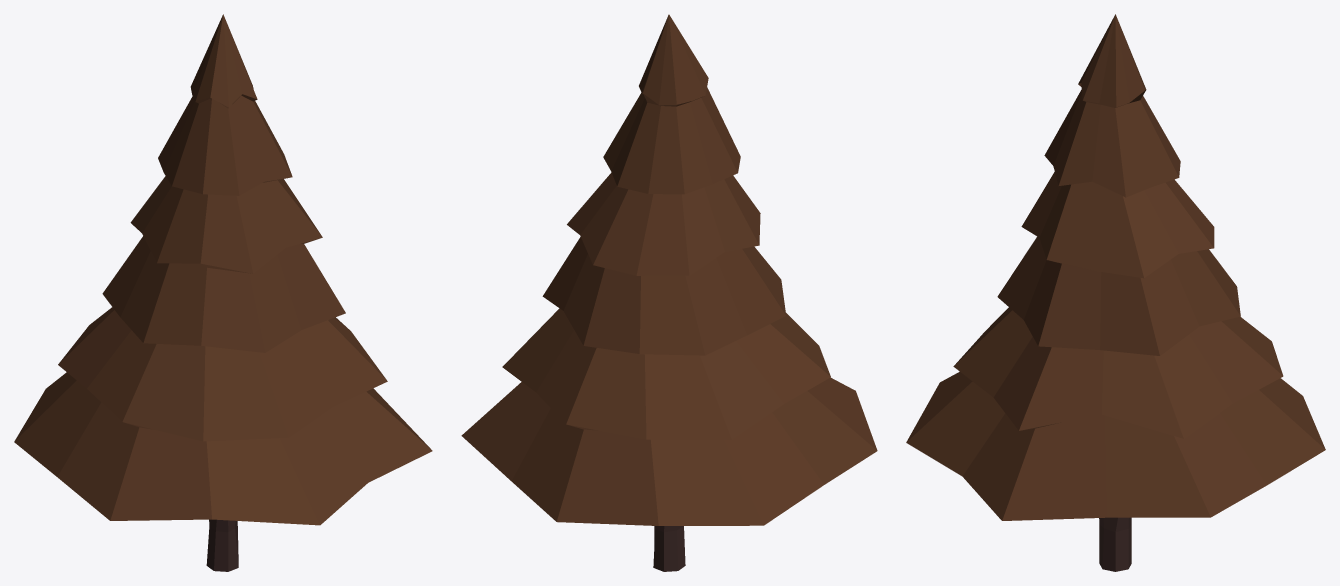
File: SM_Fir_02.fbx
3 renders of one model, left to right at view 1: azimuth 30°, elevation 25°; view 2: azimuth 150°, elevation 25°; view 3: azimuth 270°, elevation 25°, orthographic.
Parts seen in each view (by area): view 1: SM_Fir_02; view 2: SM_Fir_02; view 3: SM_Fir_02.
Part boxes in pixels (x1,y1,x2,y2): SM_Fir_02: [14, 14, 432, 571]; SM_Fir_02: [461, 14, 877, 571]; SM_Fir_02: [906, 14, 1325, 571].
Bounding box in the file's own units: 935 × 1536 × 1061.
